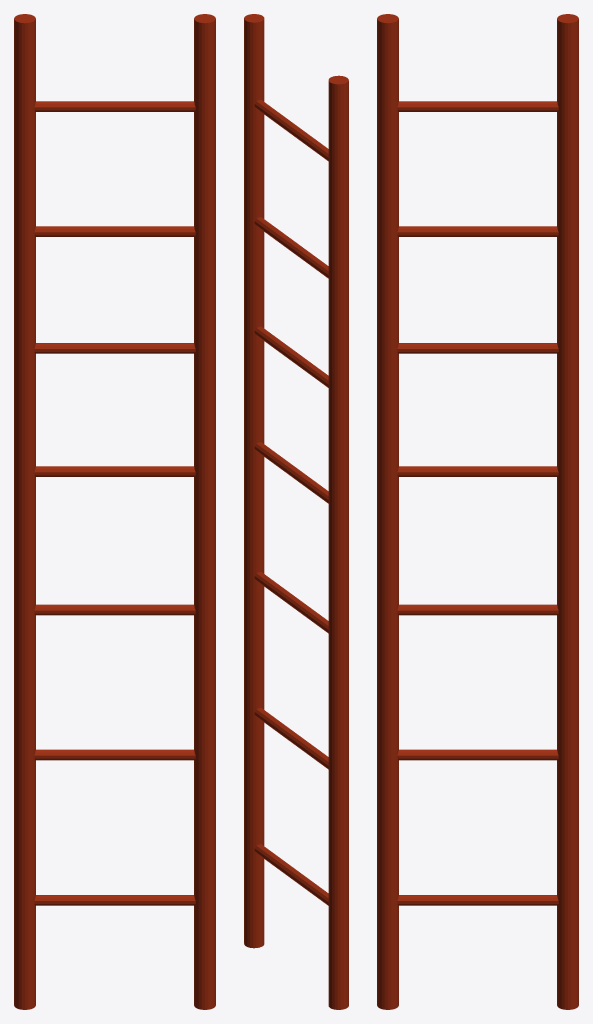
Rendered from ladder.obj.
3 views of the same model, side by side, from view 1: azimuth 90°, elevation 25°; view 2: azimuth 210°, elevation 25°; view 3: azimuth 270°, elevation 25° (orthographic). The views are drawn at different scales.
Visible parts, largest first — view 1: Cylinder; view 2: Cylinder; view 3: Cylinder.
Part boxes in pixels (bbox=[...]): Cylinder: bbox=[14, 14, 215, 1009]; Cylinder: bbox=[244, 14, 348, 1009]; Cylinder: bbox=[377, 14, 578, 1009].
Bounding box in the file's own units: 0.025 × 1.25 × 0.2317.
